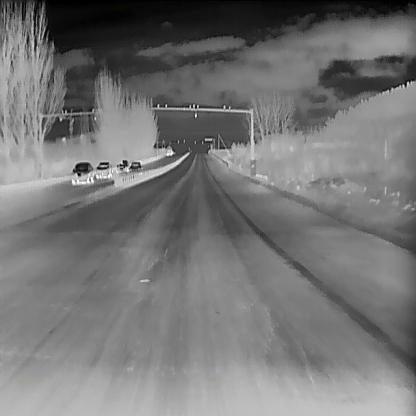car: (70, 159, 94, 184), (93, 159, 112, 178), (115, 157, 129, 171), (128, 158, 142, 170)
truck: (165, 144, 172, 154)
